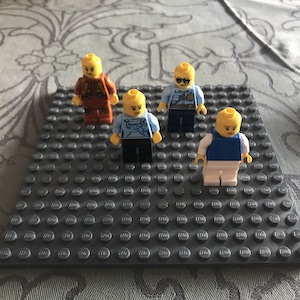Lego: (192, 107, 251, 187), (109, 89, 162, 162), (70, 53, 119, 127), (156, 62, 206, 134)
